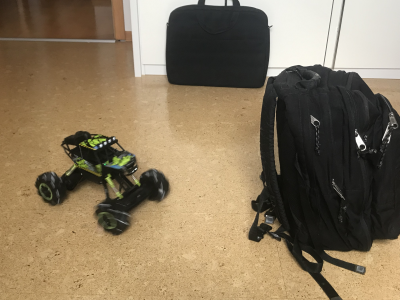remote control car: (34, 129, 170, 235)
